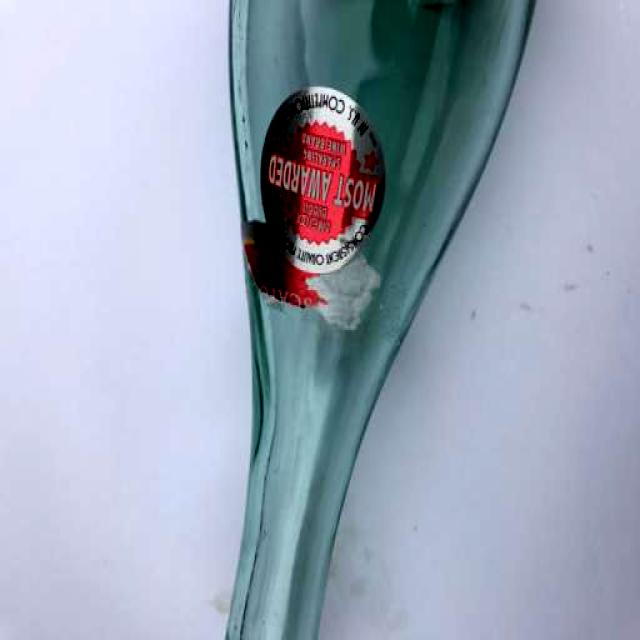Glass: (217, 0, 548, 640)
